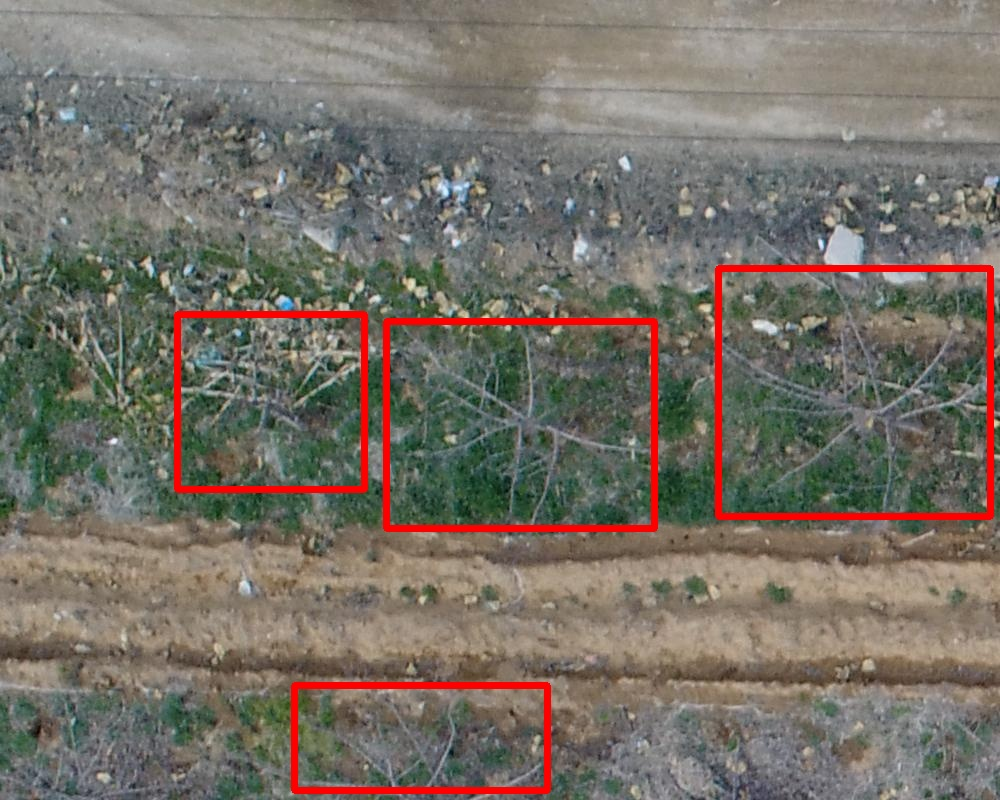apple: (718, 268, 990, 516), (386, 321, 654, 528), (177, 314, 364, 489), (294, 685, 547, 790)
